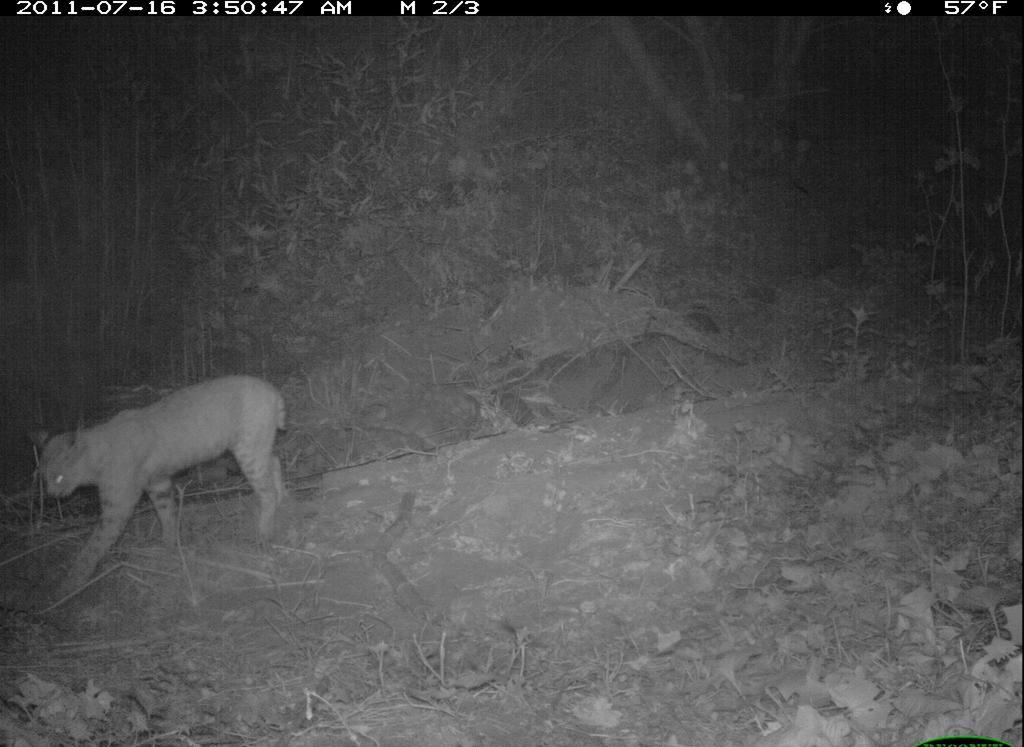bobcat: (33, 370, 291, 605)
